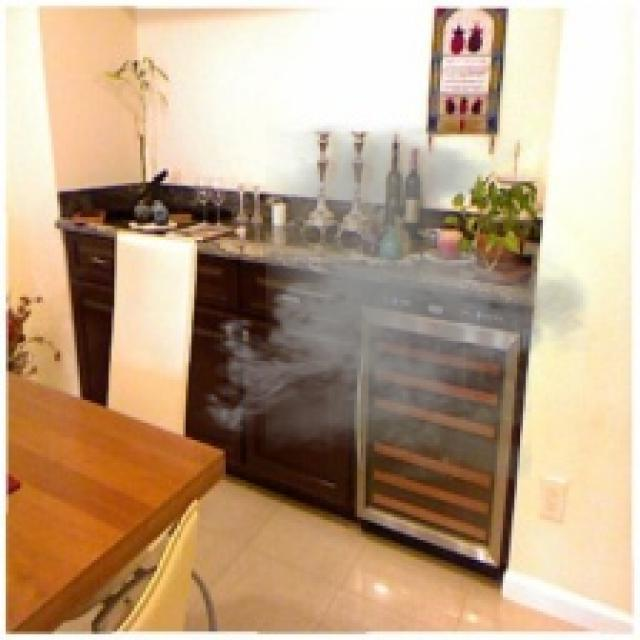Smoke: (191, 123, 606, 480)
